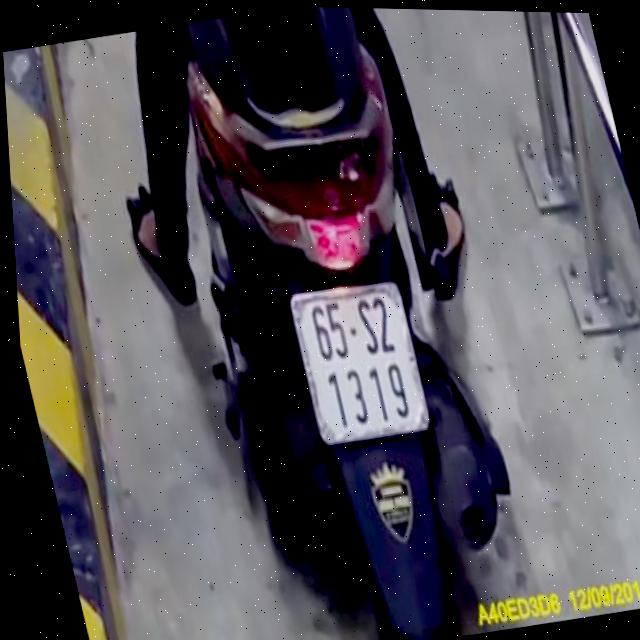motorcycle: (136, 3, 553, 640)
plate: (273, 266, 448, 459)
